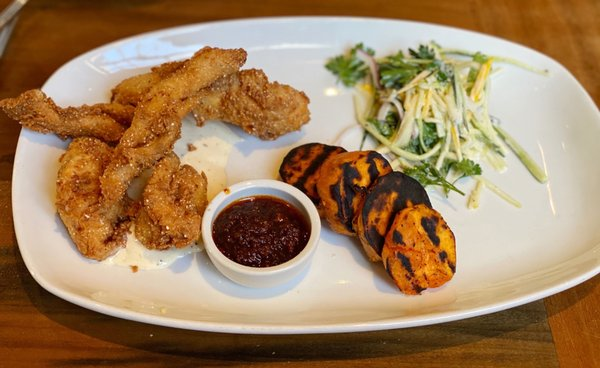soup: (281, 143, 458, 296)
sushi: (201, 177, 322, 293)
